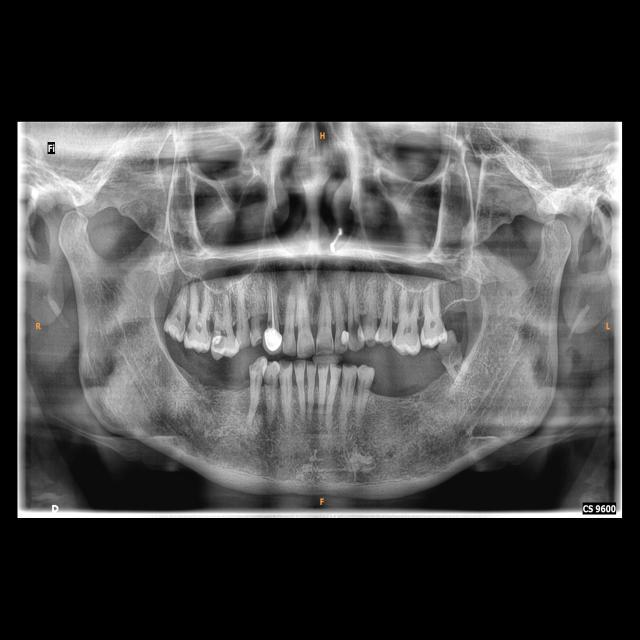dentin-curugu: (438, 337, 464, 368), (351, 314, 362, 342), (212, 325, 230, 342), (184, 326, 194, 336)
dolgu: (338, 327, 350, 349)
kanal-tedavisi: (264, 283, 280, 327)
kaplama: (261, 328, 283, 352)
